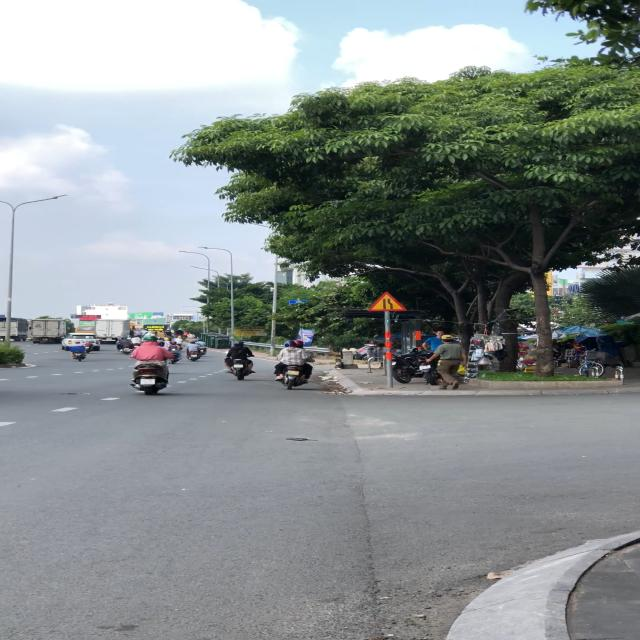Bien bao duong bi thu hep: (364, 291, 411, 311)
